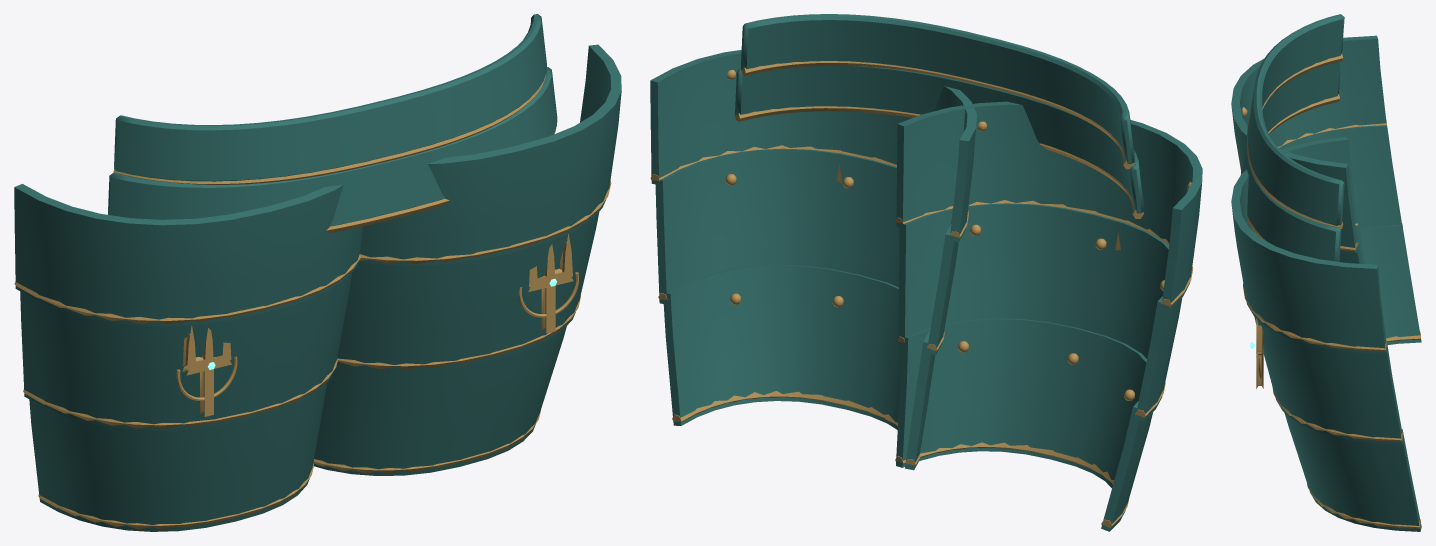
The model's file is boss_sunken_crown_leggings.glb.
3 views of the same model, side by side, from view 1: azimuth 30°, elevation 25°; view 2: azimuth 150°, elevation 25°; view 3: azimuth 270°, elevation 25° (orthographic). The views are drawn at different scales.
Parts seen in each view (by area): view 1: AT_thigh_R, AT_thigh_L, boss_sunken_crown_leggings; view 2: AT_thigh_R, AT_thigh_L, boss_sunken_crown_leggings; view 3: AT_thigh_L, AT_thigh_R, boss_sunken_crown_leggings.
Part boxes in pixels (left/top/right/bottom): AT_thigh_R: left=14, top=184, right=362, bottom=531; AT_thigh_L: left=313, top=44, right=621, bottom=475; boss_sunken_crown_leggings: left=108, top=14, right=557, bottom=232; AT_thigh_R: left=895, top=101, right=1202, bottom=531; AT_thigh_L: left=650, top=50, right=976, bottom=470; boss_sunken_crown_leggings: left=734, top=14, right=1144, bottom=218; AT_thigh_L: left=1231, top=136, right=1421, bottom=531; AT_thigh_R: left=1231, top=35, right=1421, bottom=344; boss_sunken_crown_leggings: left=1241, top=14, right=1344, bottom=261.
Bounding box in the file's own units: 0.5129 × 0.3481 × 0.177.
